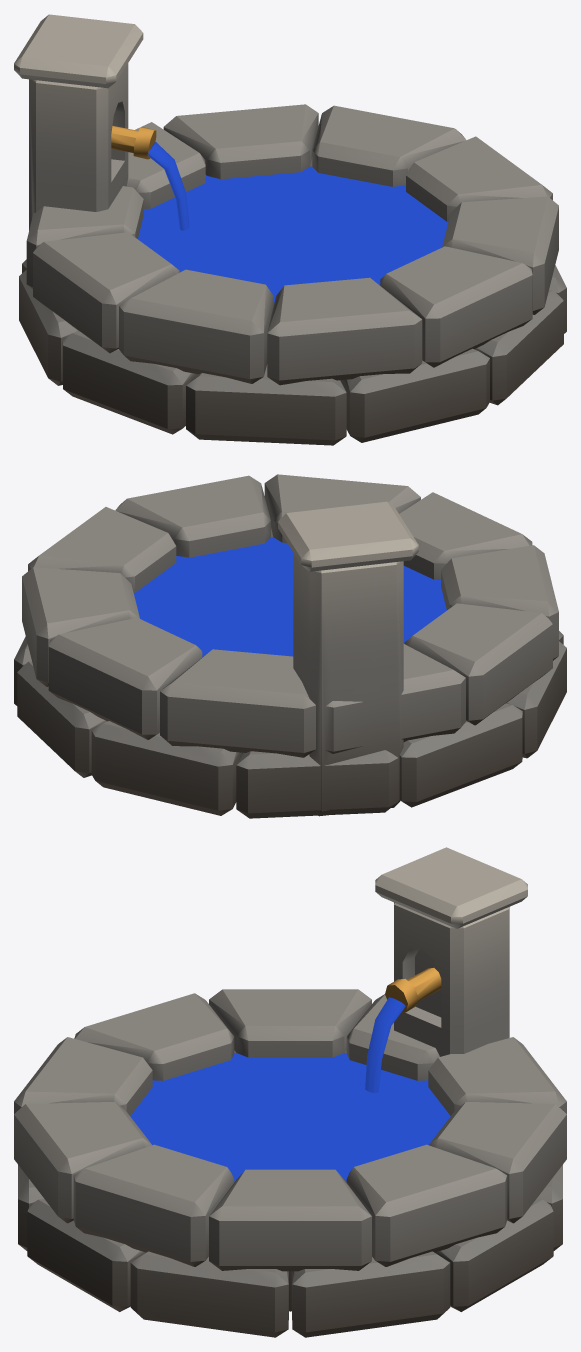
File: fountain_spring_mana.glb
The picture shows the model from 3 angles, top to bottom: view 1: azimuth 30°, elevation 25°; view 2: azimuth 150°, elevation 25°; view 3: azimuth 270°, elevation 25°; orthographic projection. The views are drawn at different scales.
Visible parts, largest first — view 1: Item; view 2: Item; view 3: Item.
Boxes of the visible parts, <box> form: Item: <box>14,14,566,445</box>; Item: <box>14,474,566,818</box>; Item: <box>14,847,566,1337</box>.
Size of the model in its own units: 2.27 by 1.24 by 2.23.
Materials: 3 (3 with a texture image).
